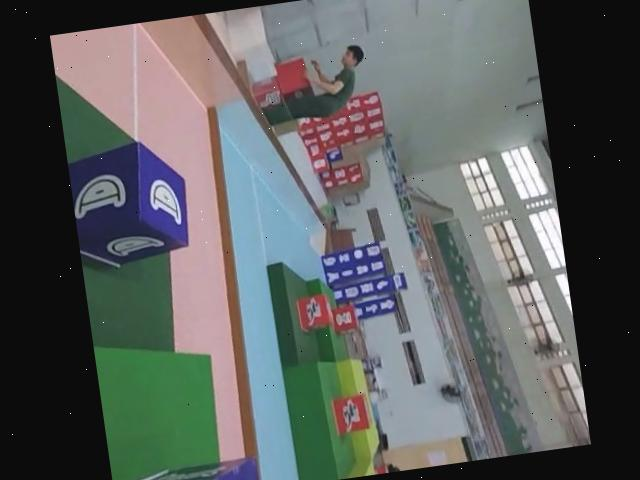R2 Real Blue: (66, 138, 193, 270), (110, 455, 260, 480)
